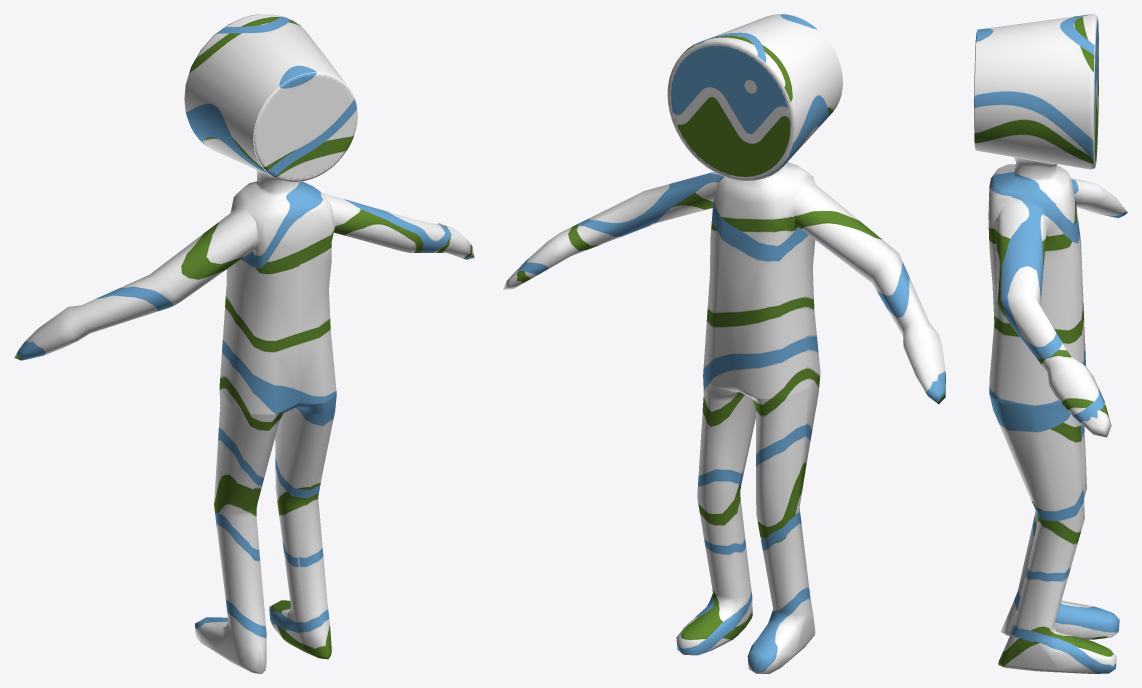
Rendered from Cesium.glb.
3 renders of one model, left to right at view 1: azimuth 30°, elevation 25°; view 2: azimuth 150°, elevation 25°; view 3: azimuth 270°, elevation 25°, orthographic. The views are drawn at different scales.
Visible parts, largest first — view 1: Cesium_Man; view 2: Cesium_Man; view 3: Cesium_Man.
Part boxes in pixels (x1=…): Cesium_Man: x1=14, y1=14, x2=474, y2=673; Cesium_Man: x1=503, y1=14, x2=945, y2=673; Cesium_Man: x1=974, y1=14, x2=1127, y2=673.
Bounding box in the file's own units: 1.75 × 2.32 × 0.5134.
1 material, 1 textured.
